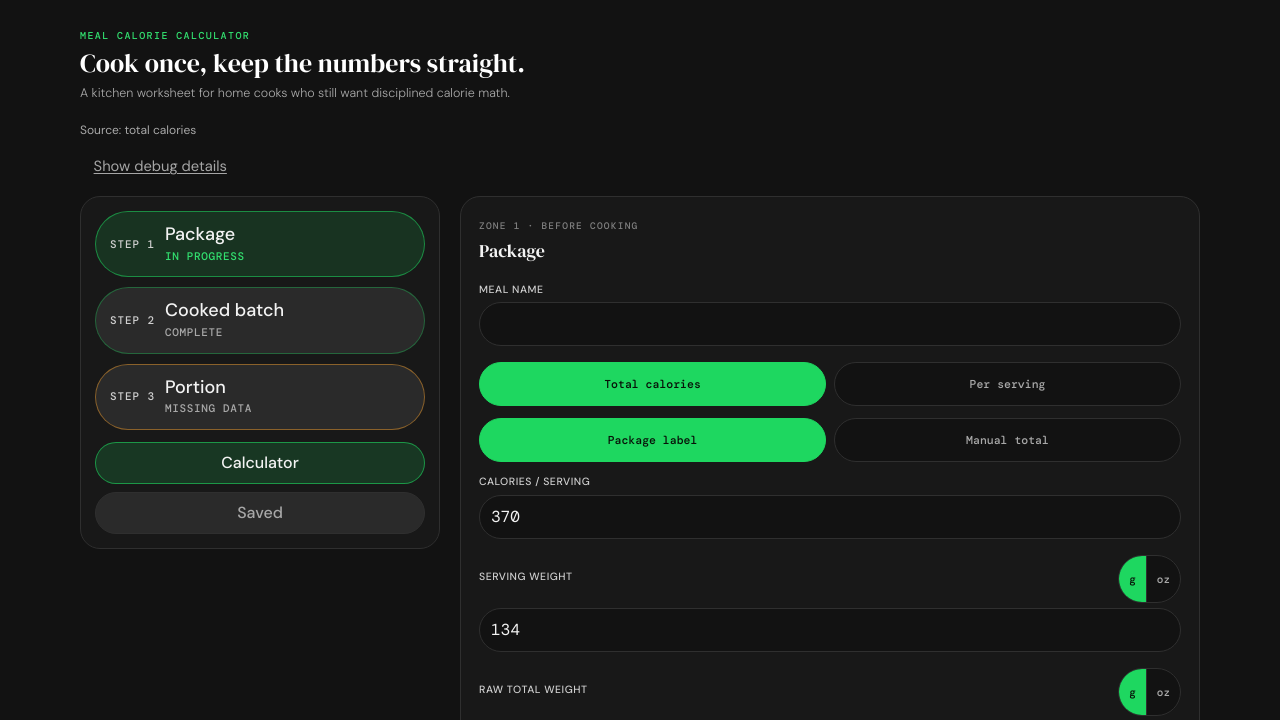
ZoneLayout › renders Zone 2 weight change callout with value and direction copy when weights are present
This screenshot has width=1280, height=720.
Click the button "Step 2 Cooked batch Complete": point(260, 320) 95,287 -> 425,354
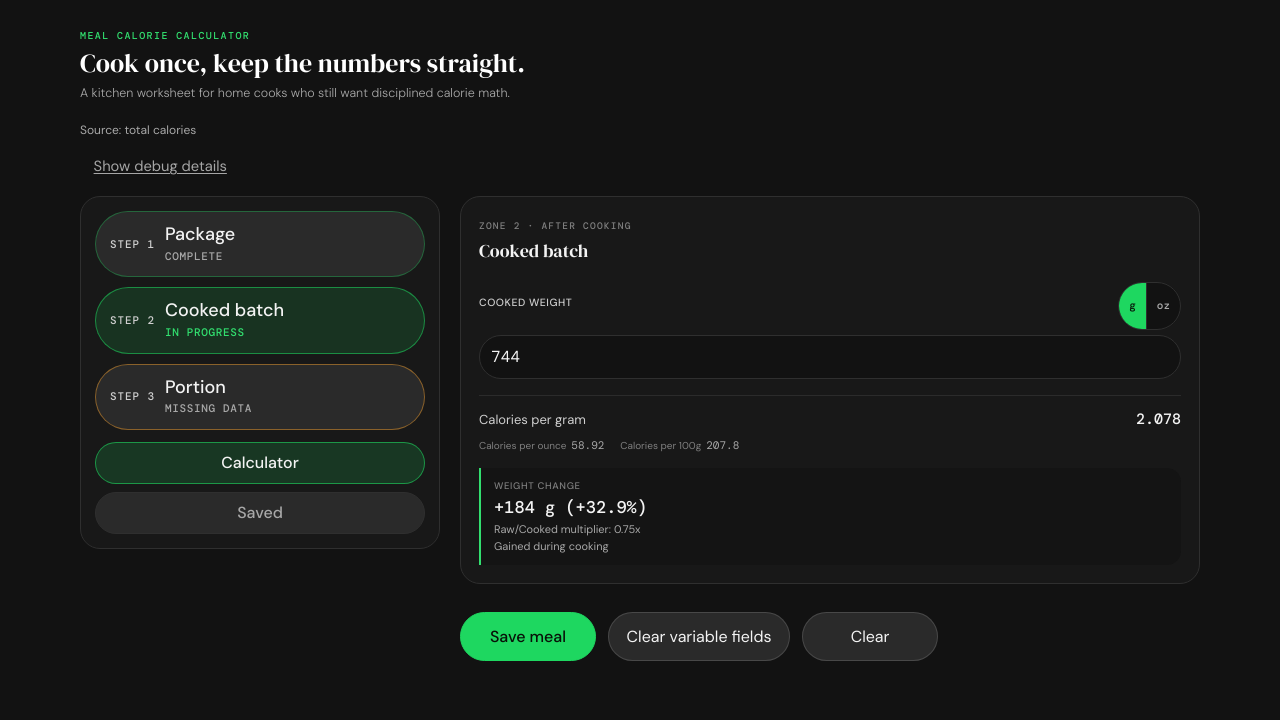
Result: the text with test id "raw-per-cooked-multiplier" shows "x" at 494,522 -> 641,536
